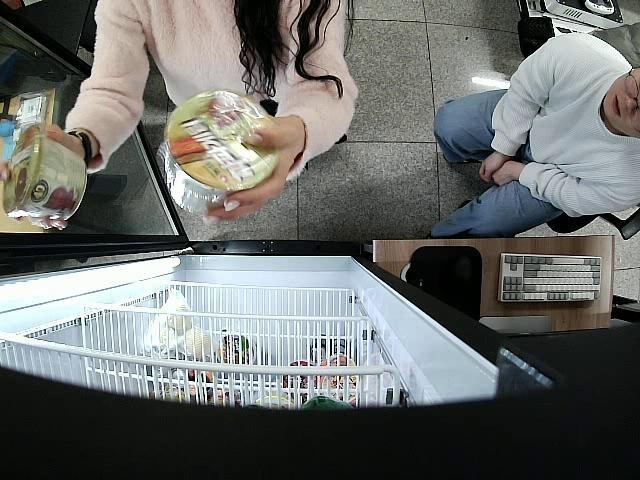04_chapagetti_S: (160, 88, 278, 214), (5, 129, 86, 220)
